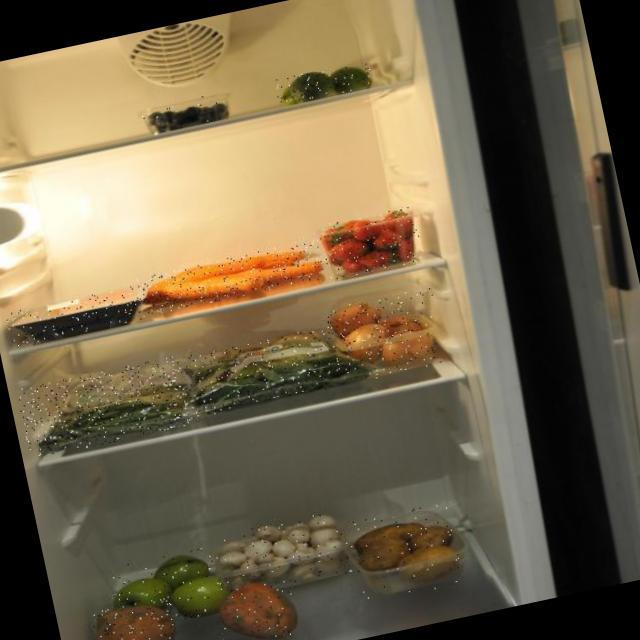Carne vacuno: (6, 284, 148, 348)
Cebolla: (325, 286, 447, 384)
Champiñones: (218, 509, 352, 599)
Manzana: (104, 543, 234, 634)
Patata: (342, 501, 469, 606)
Zanahoria: (134, 239, 326, 317)
blueberries: (133, 90, 237, 138)
green_beans: (16, 355, 193, 460)
lime: (273, 60, 373, 106)
spinach: (175, 318, 378, 419)
strawberries: (316, 206, 424, 281)
sweet_potato: (208, 569, 302, 640), (82, 595, 181, 640)
